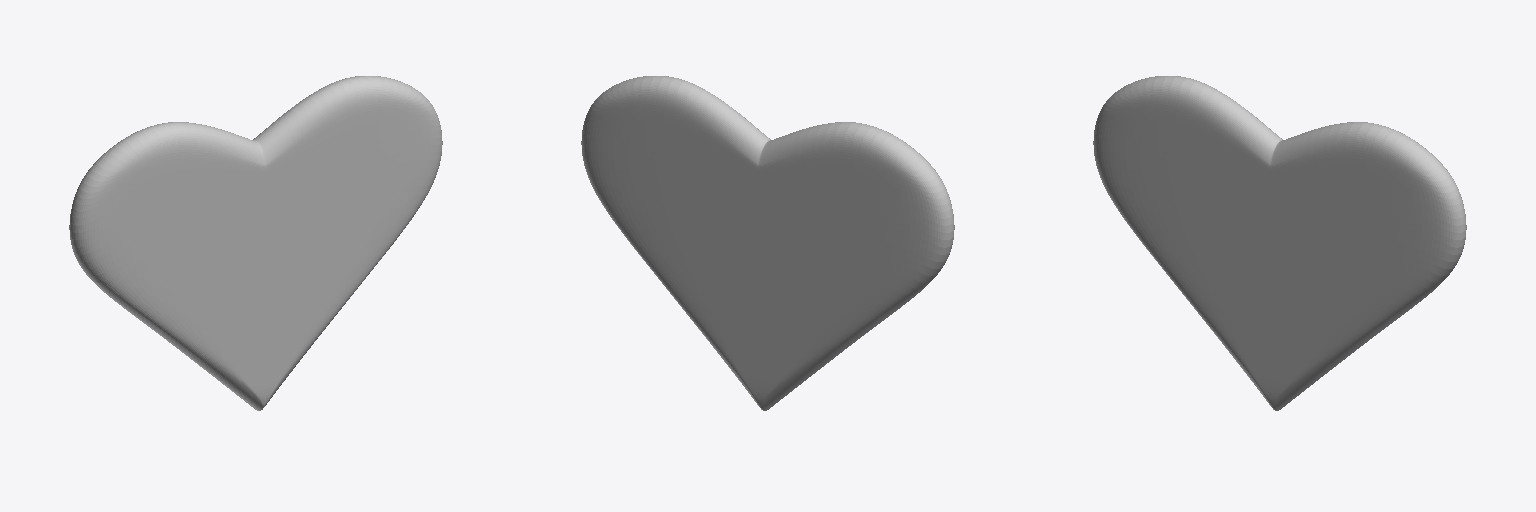
The model's file is heart.obj.
The picture shows the model from 3 angles: view 1: azimuth 30°, elevation 25°; view 2: azimuth 150°, elevation 25°; view 3: azimuth 330°, elevation 25°; orthographic projection.
Parts seen in each view (by area): view 1: heart Mesh; view 2: heart Mesh; view 3: heart Mesh.
Part boxes in pixels (bbox=[...]): heart Mesh: bbox=[69, 76, 442, 410]; heart Mesh: bbox=[581, 76, 954, 410]; heart Mesh: bbox=[1093, 76, 1466, 410].
Bounding box in the file's own units: 254 × 202 × 22.39.